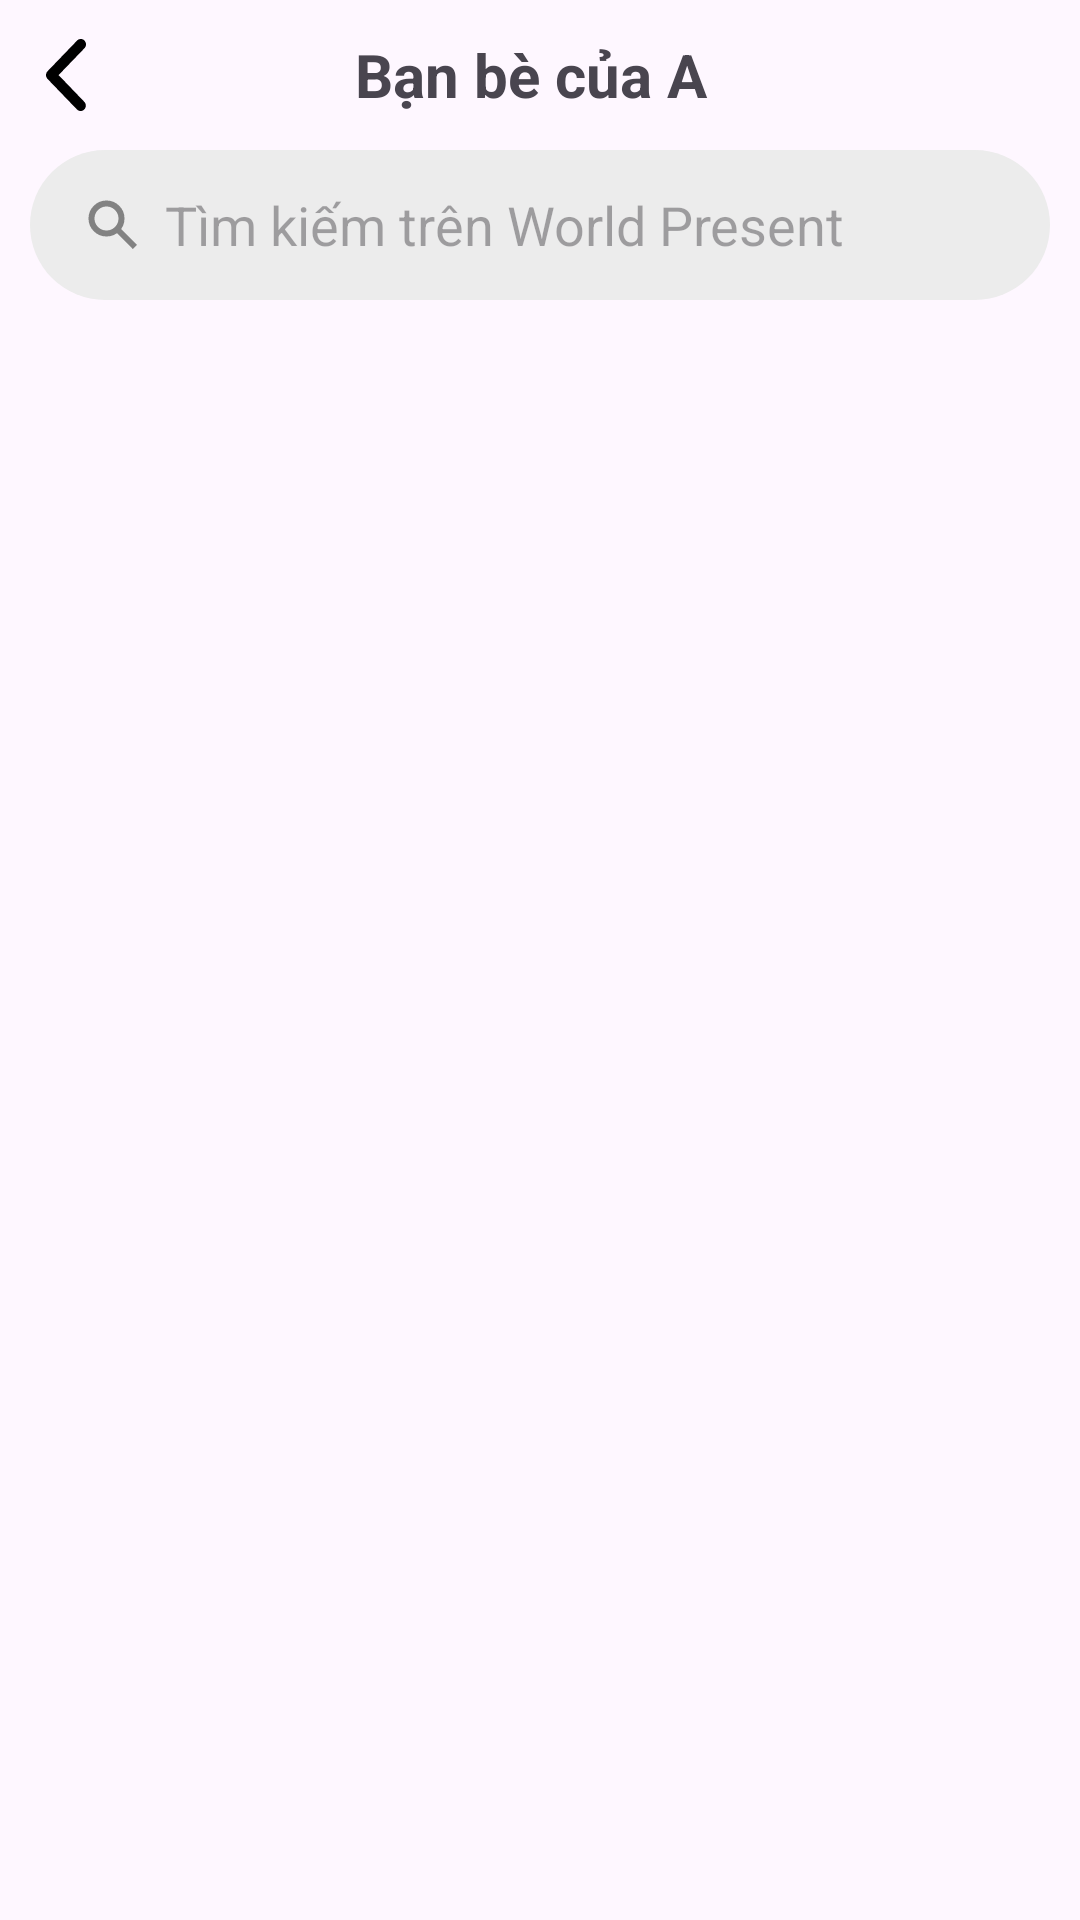

Where icons sit on this 1080px×1920px app screen, as {"left": x1, "top": y1, "right": x2, "bottom": y2}:
back: {"left": 46, "top": 39, "right": 86, "bottom": 111}
